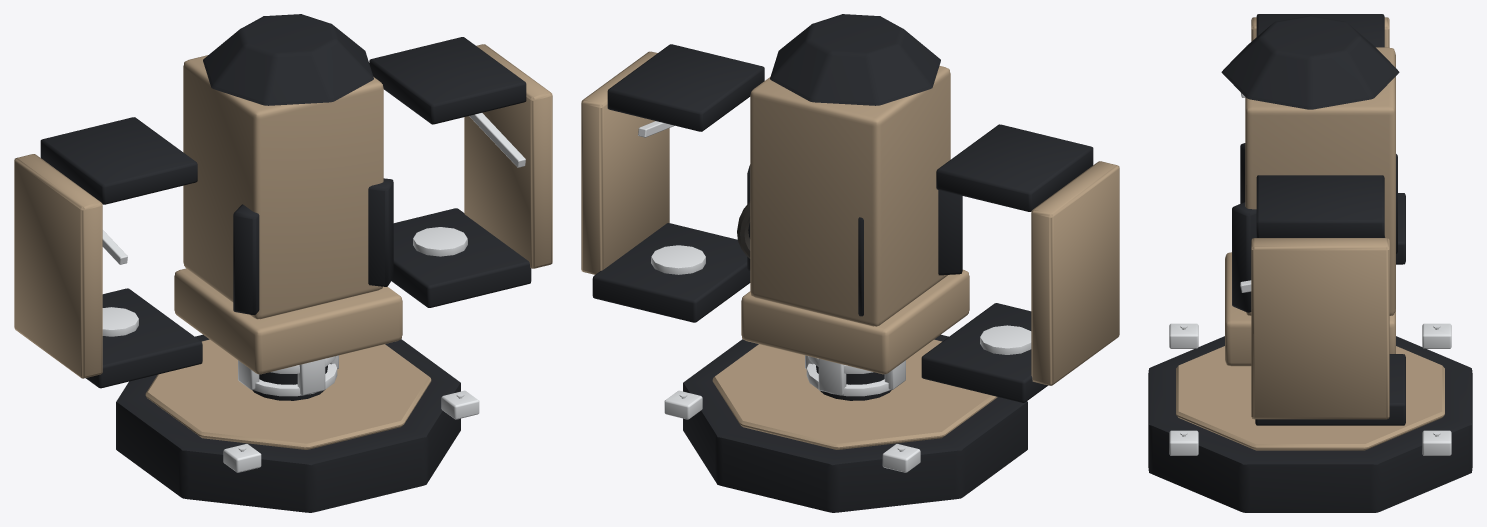
File: guard_post.glb
The picture shows the model from 3 angles, left to right: view 1: azimuth 30°, elevation 25°; view 2: azimuth 150°, elevation 25°; view 3: azimuth 270°, elevation 25°; orthographic projection.
Parts seen in each view (by area): view 1: CoreHouse, PedestalDeck, PedestalPanel, BayWallA, BayWallB, Plinth, RoofCap, BayRoofA, BayRoofB, BayPadB, BayPadA, Armor2 (+9 smaller); view 2: CoreHouse, PedestalDeck, BayWallA, PedestalPanel, BayWallB, RoofCap, Plinth, BayPadB, BayRoofA, BayRoofB, BayPadA, Armor2 (+7 smaller); view 3: BayWallB, PedestalDeck, CoreHouse, PedestalPanel, RoofCap, BayRoofB, Plinth, BayPadB, Armor3, BayRoofA, CornerMount1, CornerMount3 (+3 smaller).
Boxes of the visible parts, bbox=[...] form: CoreHouse: bbox=[183, 55, 383, 319]; PedestalDeck: bbox=[116, 334, 460, 512]; PedestalPanel: bbox=[145, 339, 431, 449]; BayWallA: bbox=[14, 154, 102, 378]; BayWallB: bbox=[464, 44, 552, 268]; Plinth: bbox=[174, 268, 402, 374]; RoofCap: bbox=[203, 14, 373, 105]; BayRoofA: bbox=[40, 117, 197, 204]; BayRoofB: bbox=[369, 37, 526, 124]; BayPadB: bbox=[391, 208, 531, 307]; BayPadA: bbox=[86, 288, 202, 388]; Armor2: bbox=[233, 204, 259, 314]; CoreHouse: bbox=[750, 65, 950, 326]; PedestalDeck: bbox=[683, 334, 1027, 512]; BayWallA: bbox=[1031, 161, 1119, 385]; PedestalPanel: bbox=[712, 339, 997, 449]; BayWallB: bbox=[581, 51, 669, 274]; RoofCap: bbox=[770, 14, 940, 105]; Plinth: bbox=[741, 269, 969, 374]; BayPadB: bbox=[592, 223, 750, 322]; BayRoofA: bbox=[936, 124, 1093, 211]; BayRoofB: bbox=[607, 44, 764, 131]; BayPadA: bbox=[921, 303, 1047, 402]; Armor2: bbox=[938, 190, 962, 275]; BayWallB: bbox=[1251, 238, 1389, 419]; PedestalDeck: bbox=[1148, 336, 1472, 512]; CoreHouse: bbox=[1245, 47, 1395, 315]; PedestalPanel: bbox=[1176, 346, 1444, 450]; RoofCap: bbox=[1221, 15, 1399, 109]; BayRoofB: bbox=[1256, 175, 1384, 237]; Plinth: bbox=[1225, 252, 1395, 366]; BayPadB: bbox=[1255, 354, 1405, 425]; Armor3: bbox=[1232, 202, 1256, 312]; BayRoofA: bbox=[1256, 14, 1384, 47]; CornerMount1: bbox=[1169, 430, 1198, 455]; CornerMount3: bbox=[1422, 430, 1451, 455].
Size of the model in its own units: 1.09 by 0.9 by 0.6467.
